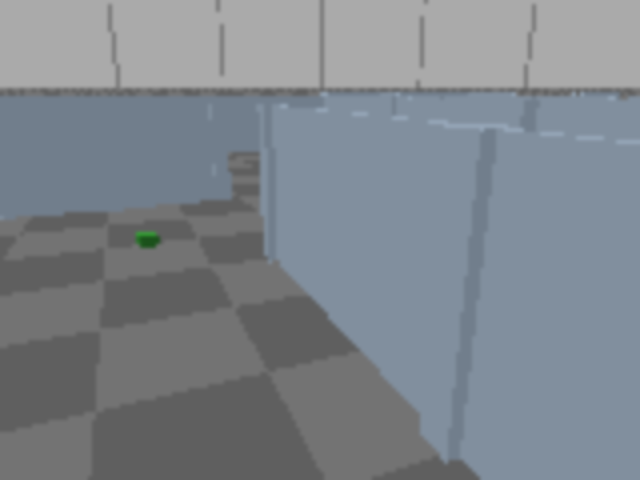puck: (138, 232, 157, 248)
